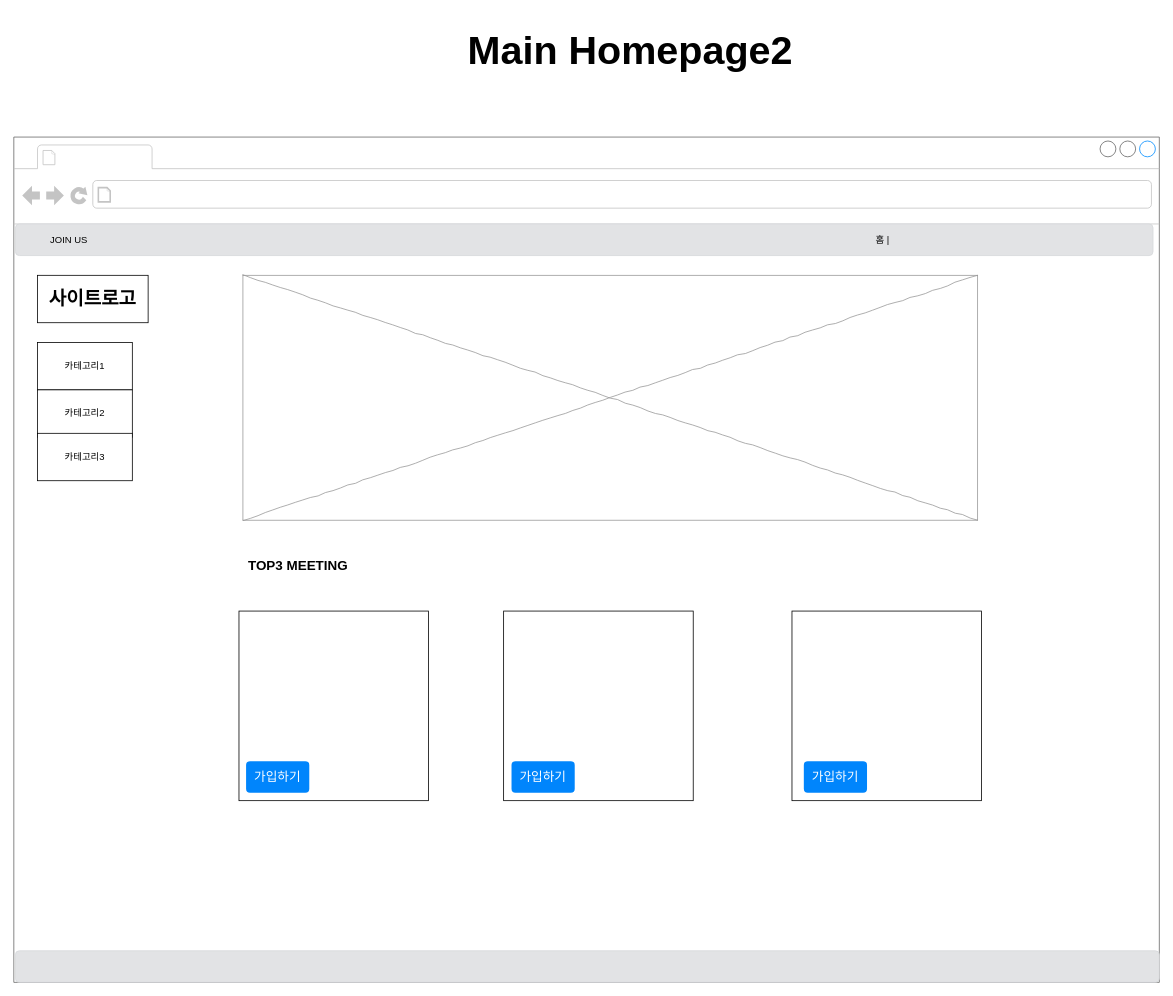
Some shapes in this 1173 by 996 pixel diagram are drawn without their labels. The box of each missing label's shape, as (x1, y1, x2, y2) in pixels:
https://www.mywebsite.com: (116, 184, 314, 205)
My WebSite: (60, 146, 148, 167)
로그인 | 회원가입: (15, 223, 1153, 256)
